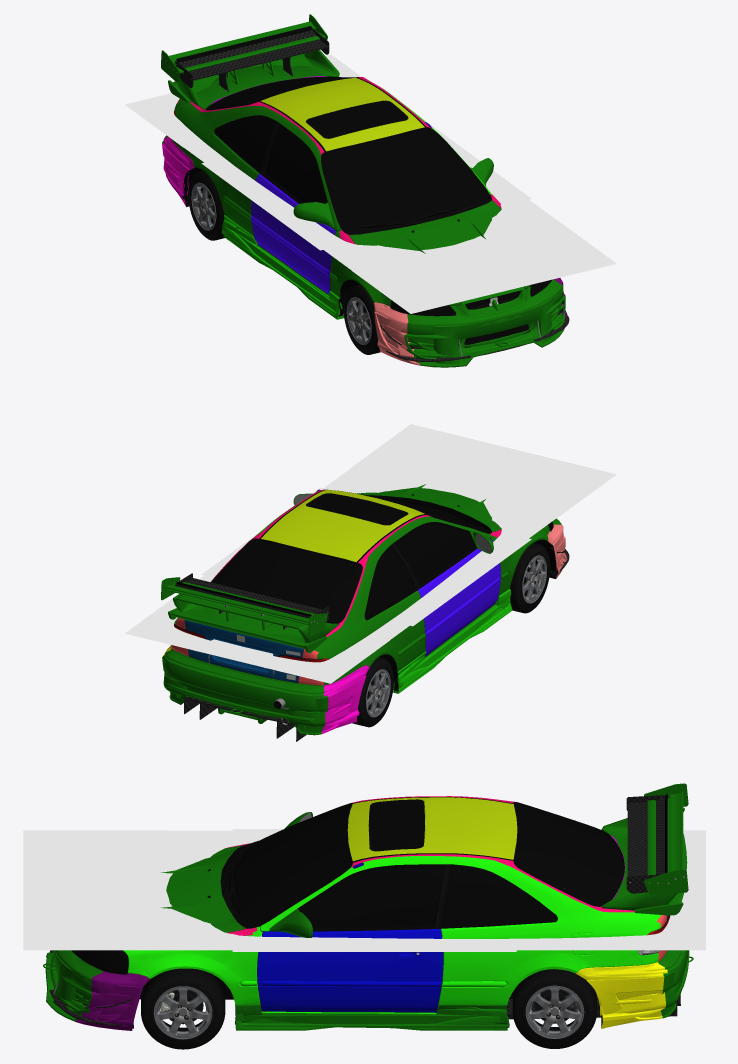
Rendered from civic.fbx.
3 renders of one model, top to bottom at view 1: azimuth 30°, elevation 25°; view 2: azimuth 150°, elevation 25°; view 3: azimuth 270°, elevation 25°, orthographic. The views are drawn at different scales.
Parts seen in each view (by area): view 1: neon (×4), hon_civicsi_99_body_body_, shadow, hon_civicsi_99_glassF_window_, hon_civicsi_99_bumperFb_body_, hon_civicsi_99_body_black_glass_, hon_civicsi_99_hoodf_body_, hon_civicsi_99_wingrace_carbon_fiber_, hon_civicsi_99_glassRF_window_, hon_civicsi_99_wingd_body_, hon_civicsi_99_body_rubber_trim_, hon_civicsi_99_bumperFc_body_ (+18 smaller); view 2: neon (×3), hon_civicsi_99_body_body_, shadow, hon_civicsi_99_glassR_window_, hon_civicsi_99_bumperRc_body_, hon_civicsi_99_glassRF_window_, hon_civicsi_99_bumperRf_body_, hon_civicsi_99_wingd_body_, hon_civicsi_99_trunk_body_, hon_civicsi_99_wheel_tire_ (×2), hon_civicsi_99_body_black_glass_, hon_civicsi_99_body_rubber_trim_ (+13 smaller); view 3: hon_civicsi_99_body_body_, neon (×4), shadow, hon_civicsi_99_glassF_window_, hon_civicsi_99_glassLF_window_, hon_civicsi_99_wheel_tire_ (×2), hon_civicsi_99_glassR_window_, hon_civicsi_99_body_black_glass_, hon_civicsi_99_wheel_rim_ (×2), hon_civicsi_99_body_rubber_trim_, hon_civicsi_99_hoodf_body_, hon_civicsi_99_skirtLc_body_ (+22 smaller).
Part boxes in pixels (x1=…): neon (×4): x1=125, y1=54, x2=616, y2=313; hon_civicsi_99_body_body_: x1=171, y1=77, x2=501, y2=306; shadow: x1=165, y1=76, x2=572, y2=292; hon_civicsi_99_glassF_window_: x1=326, y1=132, x2=483, y2=228; hon_civicsi_99_bumperFb_body_: x1=374, y1=279, x2=565, y2=367; hon_civicsi_99_body_black_glass_: x1=207, y1=78, x2=491, y2=234; hon_civicsi_99_hoodf_body_: x1=357, y1=205, x2=524, y2=304; hon_civicsi_99_wingrace_carbon_fiber_: x1=175, y1=28, x2=329, y2=91; hon_civicsi_99_glassRF_window_: x1=265, y1=126, x2=326, y2=203; hon_civicsi_99_wingd_body_: x1=177, y1=50, x2=339, y2=109; hon_civicsi_99_body_rubber_trim_: x1=205, y1=76, x2=491, y2=233; hon_civicsi_99_bumperFc_body_: x1=373, y1=278, x2=567, y2=357; neon (×3): x1=125, y1=424, x2=616, y2=683; hon_civicsi_99_body_body_: x1=171, y1=489, x2=549, y2=685; shadow: x1=164, y1=445, x2=573, y2=665; hon_civicsi_99_glassR_window_: x1=215, y1=543, x2=356, y2=621; hon_civicsi_99_bumperRc_body_: x1=163, y1=653, x2=368, y2=728; hon_civicsi_99_glassRF_window_: x1=395, y1=524, x2=474, y2=584; hon_civicsi_99_bumperRf_body_: x1=163, y1=646, x2=368, y2=726; hon_civicsi_99_wingd_body_: x1=173, y1=593, x2=339, y2=642; hon_civicsi_99_trunk_body_: x1=184, y1=620, x2=303, y2=682; hon_civicsi_99_wheel_tire_ (×2): x1=352, y1=542, x2=550, y2=727; hon_civicsi_99_body_black_glass_: x1=212, y1=494, x2=488, y2=623; hon_civicsi_99_body_rubber_trim_: x1=211, y1=489, x2=489, y2=623; hon_civicsi_99_body_body_: x1=123, y1=796, x2=667, y2=1013; neon (×4): x1=23, y1=829, x2=705, y2=951; shadow: x1=53, y1=830, x2=684, y2=950; hon_civicsi_99_glassF_window_: x1=235, y1=807, x2=346, y2=922; hon_civicsi_99_glassLF_window_: x1=299, y1=867, x2=444, y2=928; hon_civicsi_99_wheel_tire_ (×2): x1=141, y1=968, x2=596, y2=1049; hon_civicsi_99_glassR_window_: x1=520, y1=805, x2=619, y2=901; hon_civicsi_99_body_black_glass_: x1=228, y1=800, x2=623, y2=927; hon_civicsi_99_wheel_rim_ (×2): x1=155, y1=985, x2=584, y2=1038; hon_civicsi_99_body_rubber_trim_: x1=227, y1=797, x2=624, y2=931; hon_civicsi_99_hoodf_body_: x1=161, y1=848, x2=233, y2=932; hon_civicsi_99_skirtLc_body_: x1=235, y1=1010, x2=509, y2=1027.
Size of the model in its own units: 4 by 1.38 by 5.
